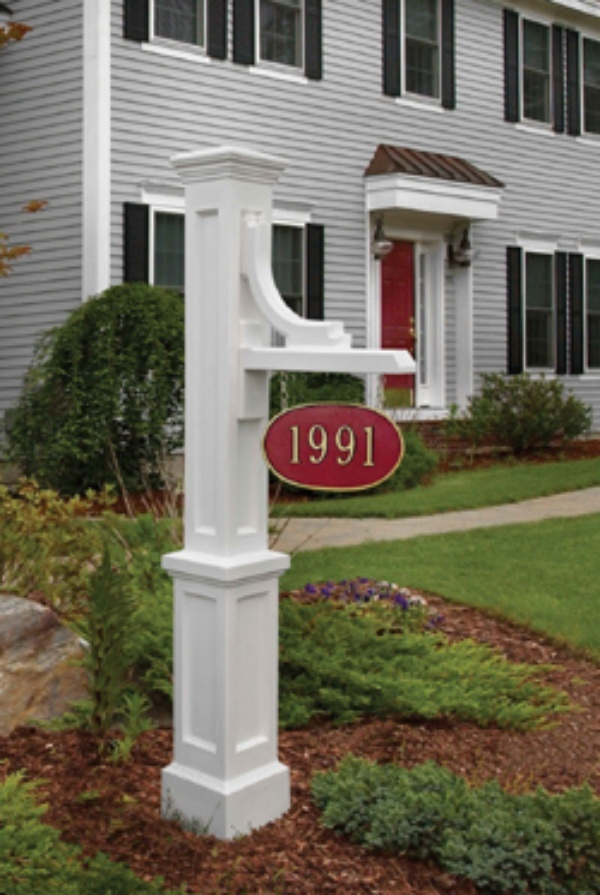text: (289, 423, 304, 466), (305, 423, 320, 466), (321, 423, 336, 466), (337, 423, 352, 466), (353, 423, 368, 466), (369, 423, 377, 466), (286, 423, 288, 466)
